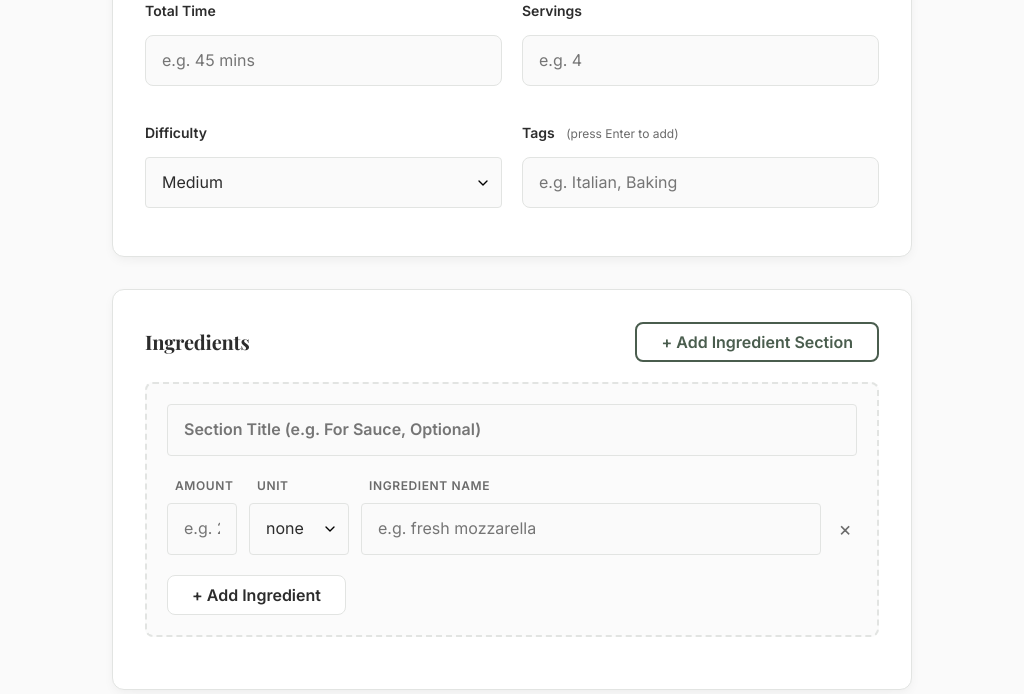
it: ManualRecipeForm Component › manages ingredient sections and items (add/remove)
(page scrolled)
Note: Add Section
Step 1. Click the button "+ Add Ingredient Section" → (757, 342), box [636,322,879,362]
(page scrolled)
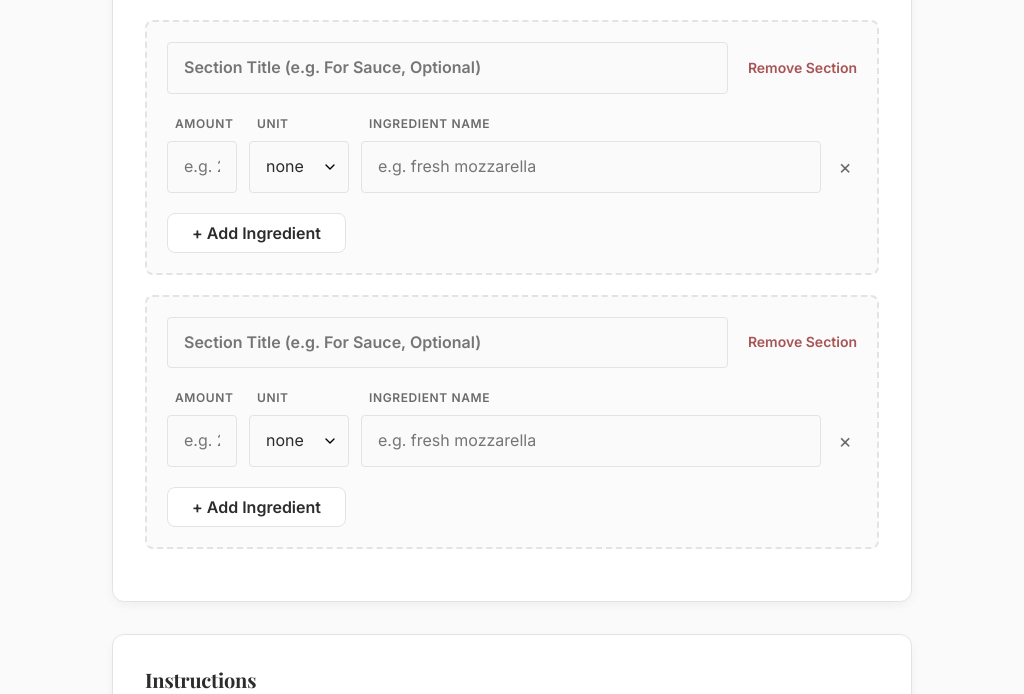
Expected: the number of fields with placeholder "Section Title (e.g. For Sauce, Optional)" is 2
Note: Edit new section header title
Step 2. Type "Frosting" into the 2nd field with placeholder "Section Title (e.g. For Sauce, Optional)" → (447, 342), box [167,317,728,368]
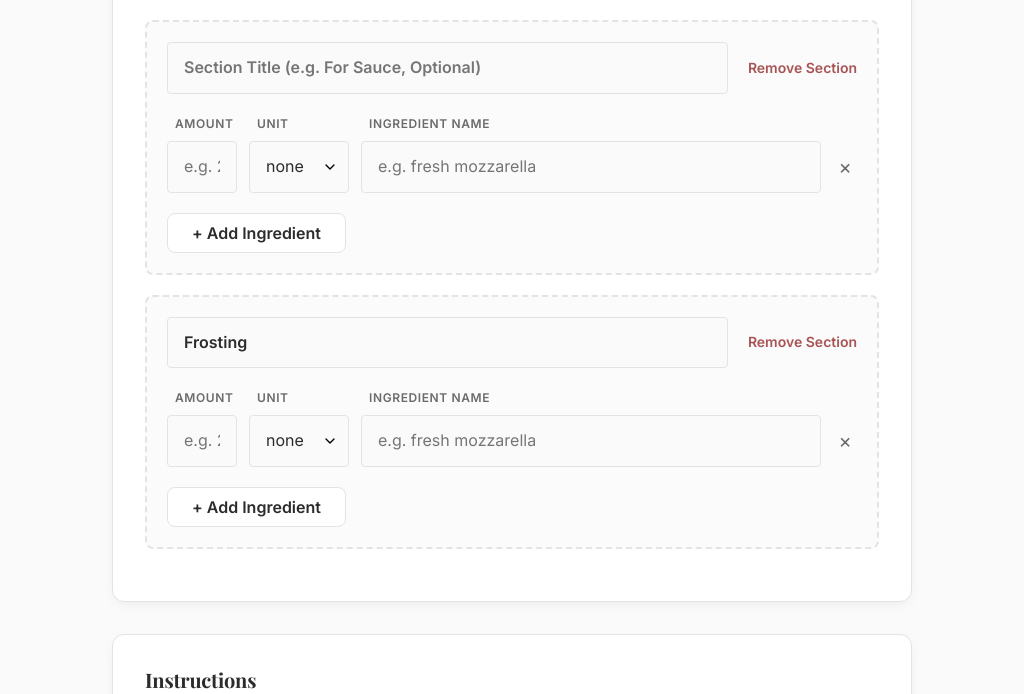
Note: Add Ingredient in second section
Step 3. Click the 2nd button "+ Add Ingredient" → (256, 507), box [167,487,346,527]
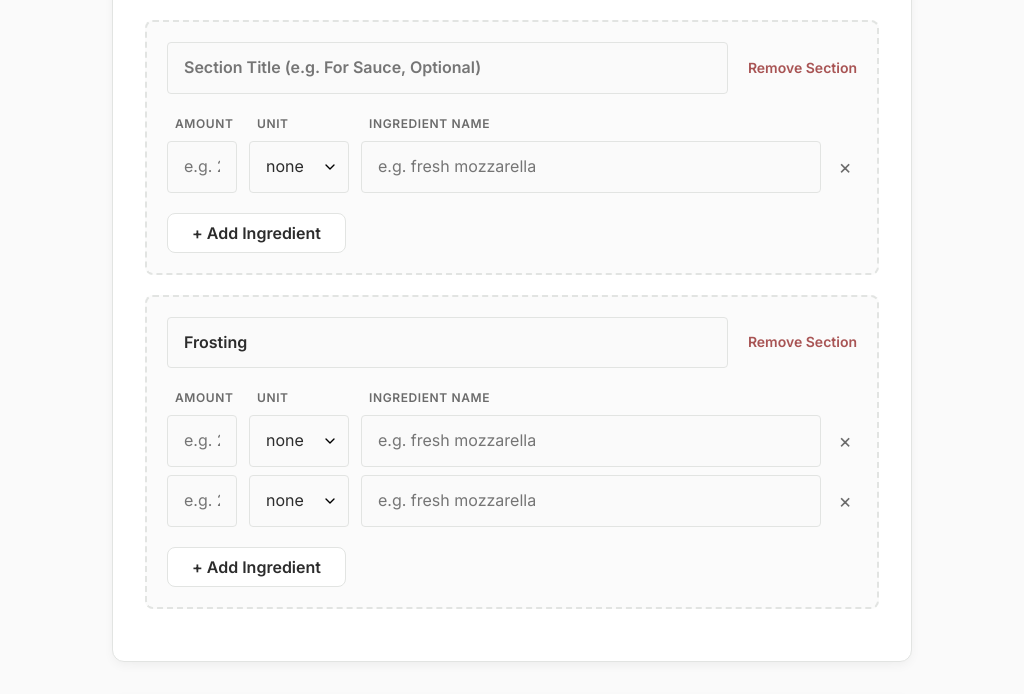
Expected: the number of fields with placeholder "e.g. fresh mozzarella" is 3
Note: Change value of frosting ingredient
Step 4. Type "icing sugar" into the 3rd field with placeholder "e.g. fresh mozzarella" → (591, 501), box [361,475,821,527]
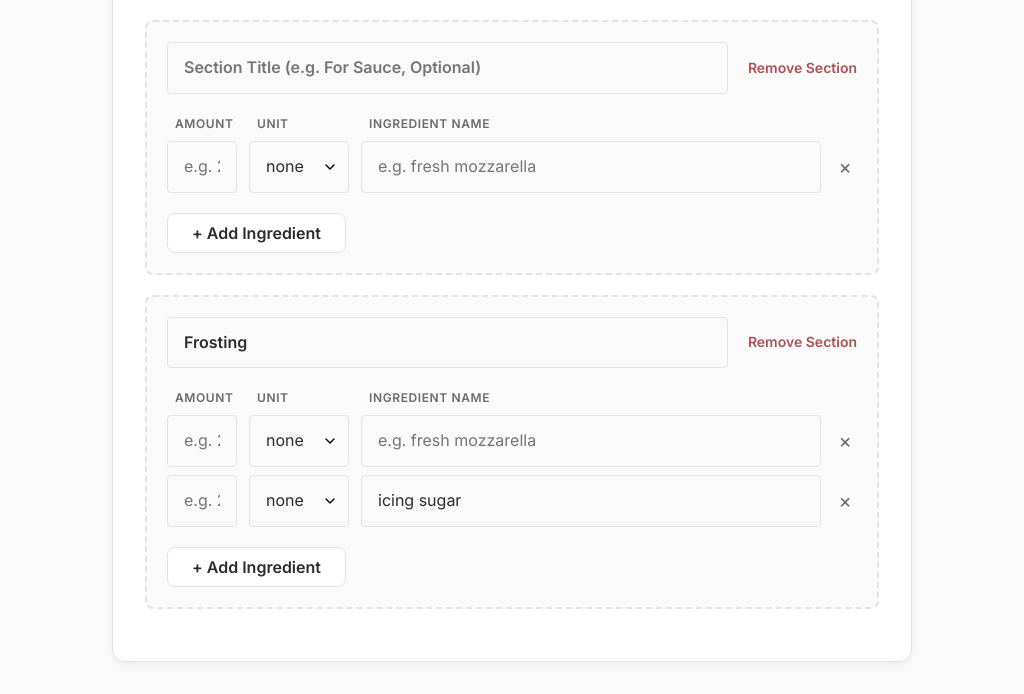
Note: Remove first ingredient row in second section
Step 5. Click the 2nd button titled "Remove ingredient" → (845, 441), box [833,425,857,457]
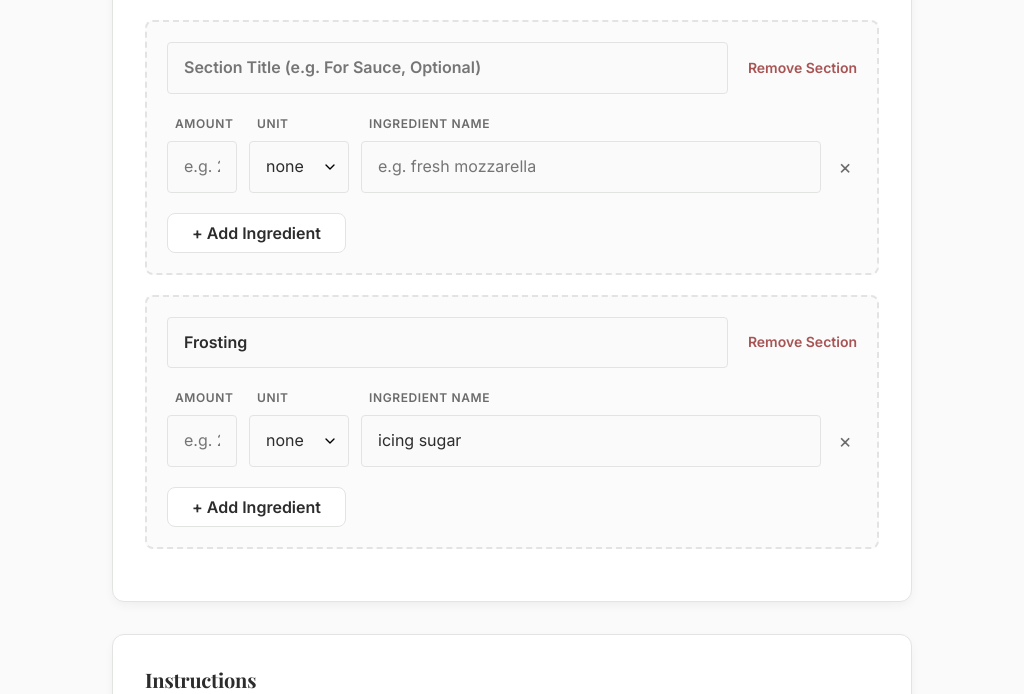
Note: Remove first section
Step 6. Click the 1st button "Remove Section" → (802, 68), box [748,42,857,94]
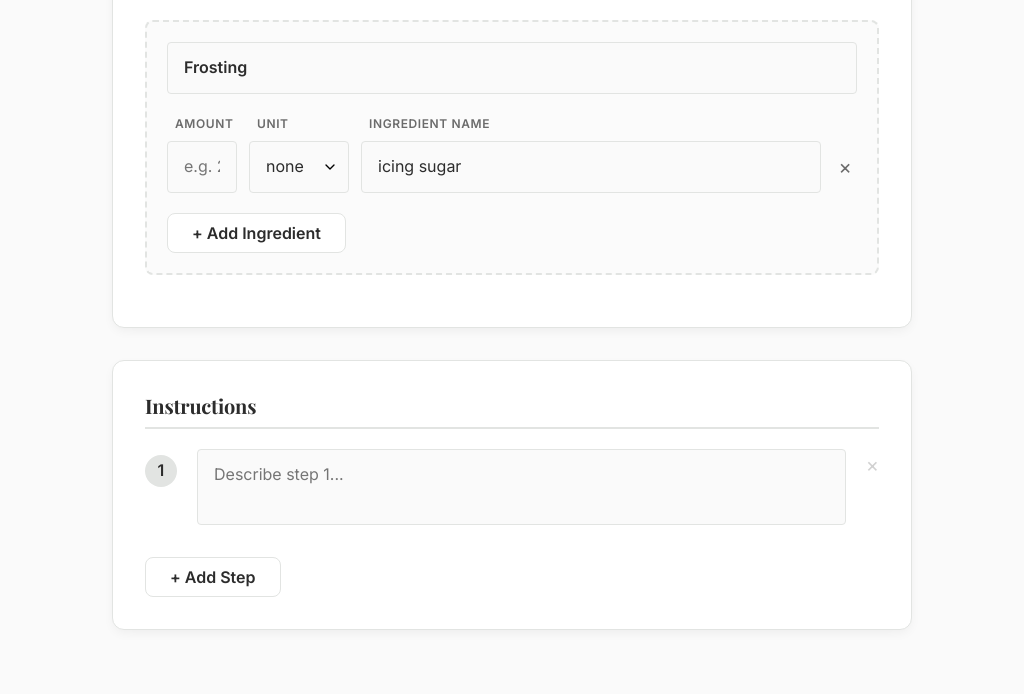
Expected: the number of fields with placeholder "Section Title (e.g. For Sauce, Optional)" is 1, [167,42,857,94]
Expected: the 1st field with placeholder "Section Title (e.g. For Sauce, Optional)" holds "Frosting", [167,42,857,94]
